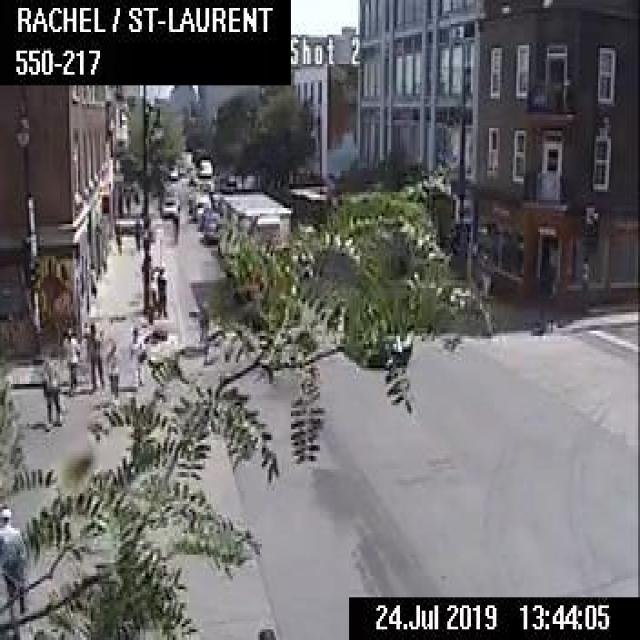pedestrian: (0, 504, 27, 618), (38, 349, 62, 427), (62, 317, 80, 395), (84, 317, 102, 394), (103, 334, 118, 403), (127, 318, 142, 382), (156, 259, 167, 317), (169, 198, 182, 245), (132, 214, 140, 250), (113, 221, 121, 253)
vehicle: (217, 190, 296, 318), (159, 189, 176, 219), (191, 189, 208, 218), (202, 210, 216, 240), (164, 168, 182, 181)
